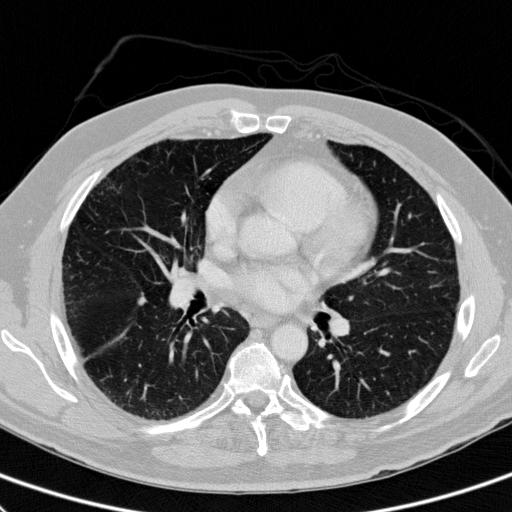nodule: (136, 294, 150, 308)
